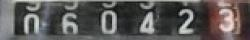digits: (177, 7, 194, 35), (60, 12, 78, 35), (99, 9, 117, 32), (138, 10, 155, 34), (23, 12, 39, 36), (218, 8, 234, 31)
